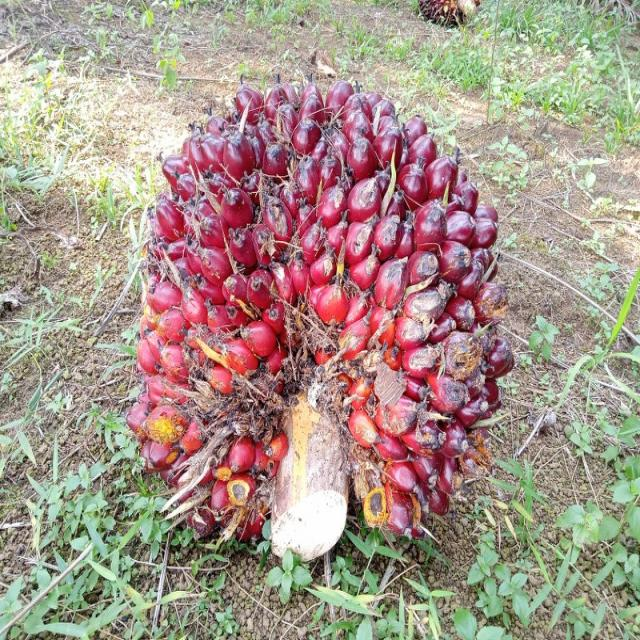fraksi 1: (113, 62, 527, 586)
